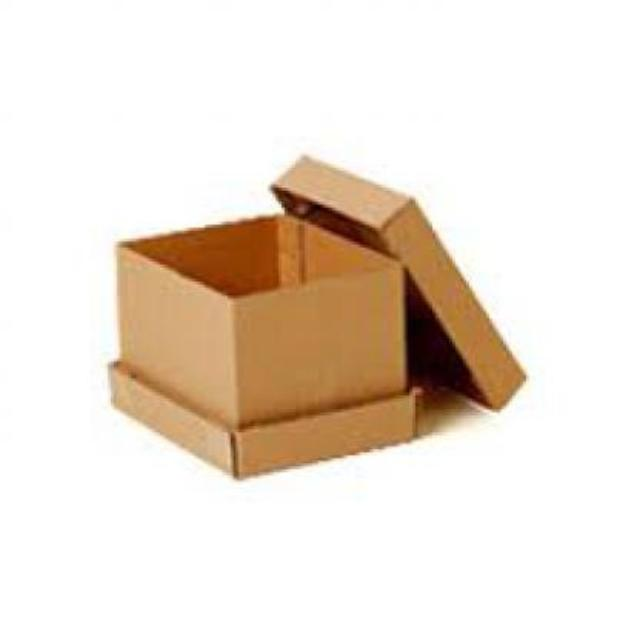cardboard_box: (86, 145, 544, 472)
